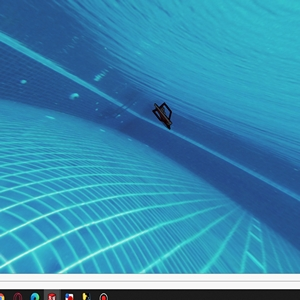submarine: (156, 104, 174, 128)
